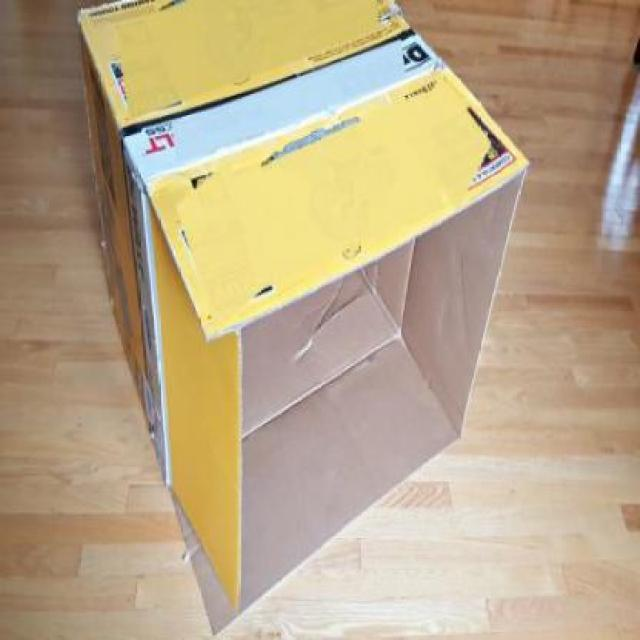box: (74, 0, 531, 640)
